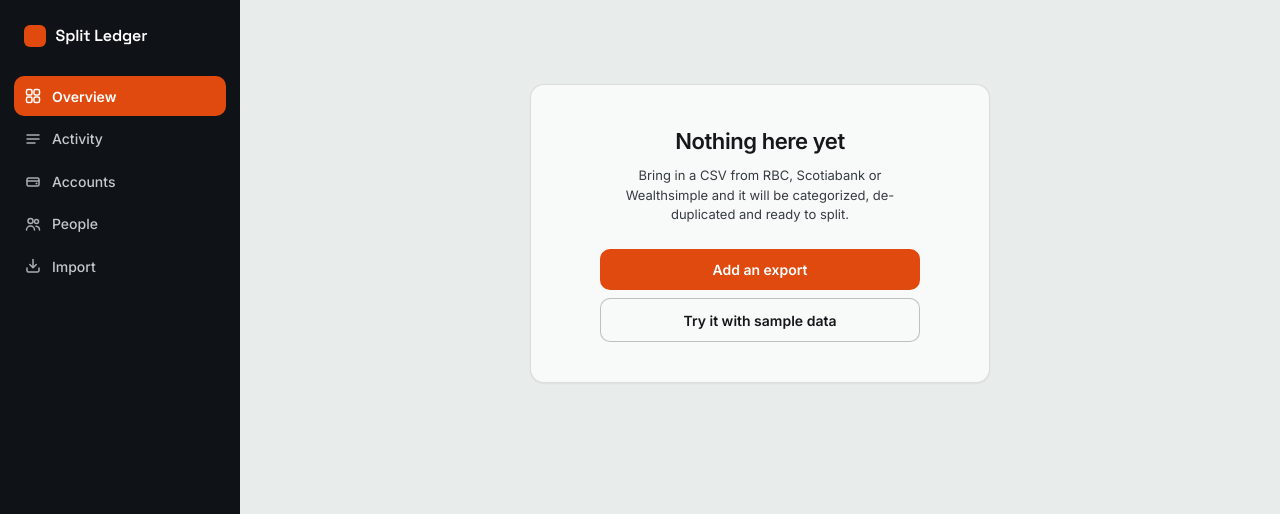
App › runs a copilot workflow and renders the answer it gets back
Click the button "Try it with sample data": (760, 320) [600,298,920,342]
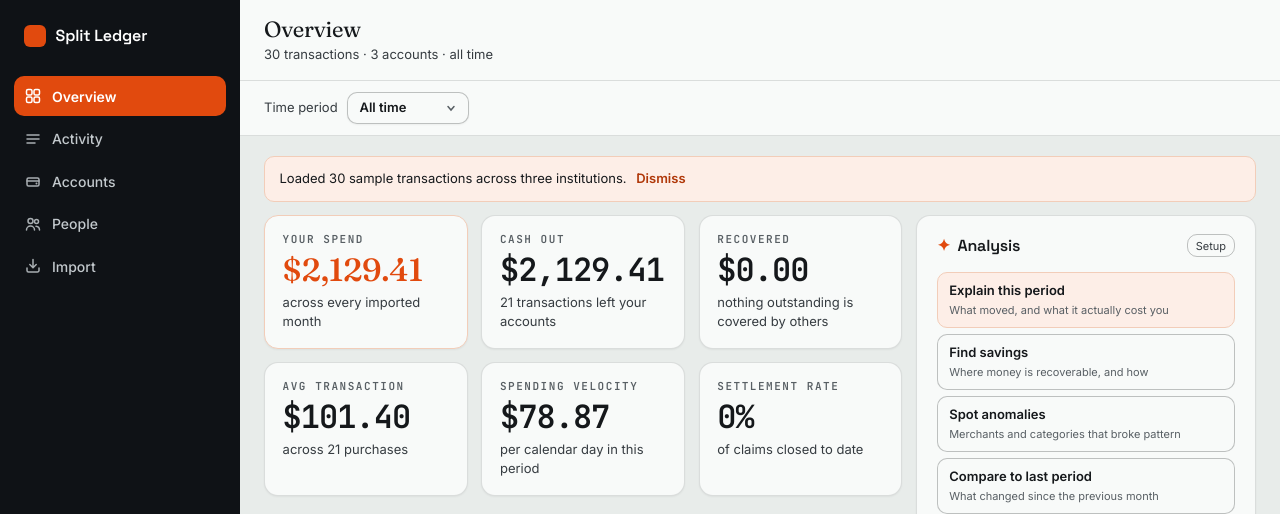
Click the button "Find savings Where money is recoverable, and how": (989, 352) [937,334,1235,390]
(page scrolled)
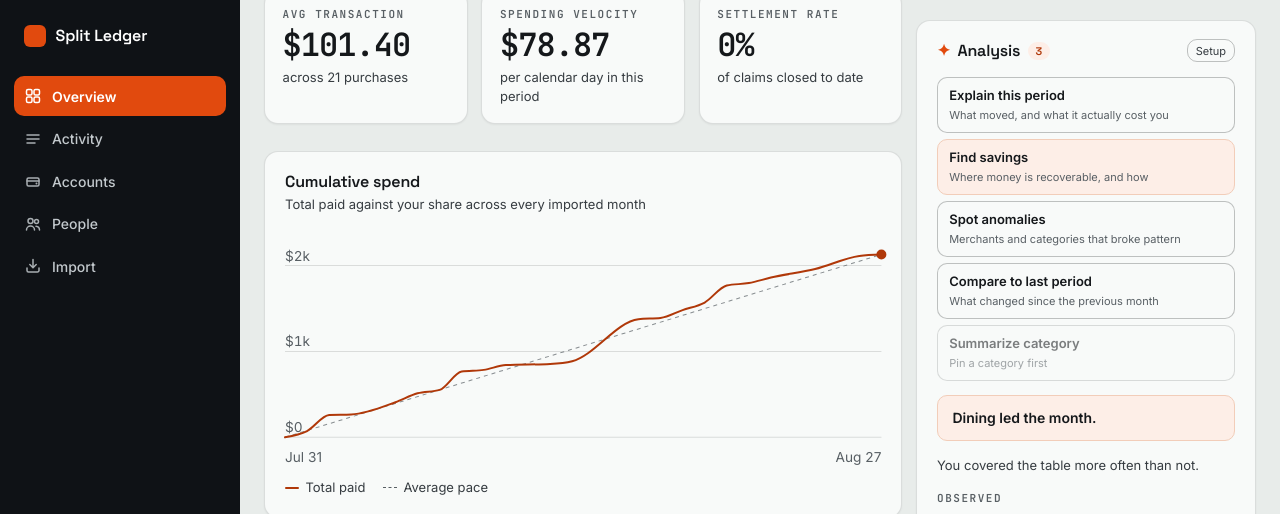
Check: the text "Dining led the month." is shown, box [937,395,1235,440]
Check: the text "You covered the table more often than not." is shown, box [937,455,1235,476]
